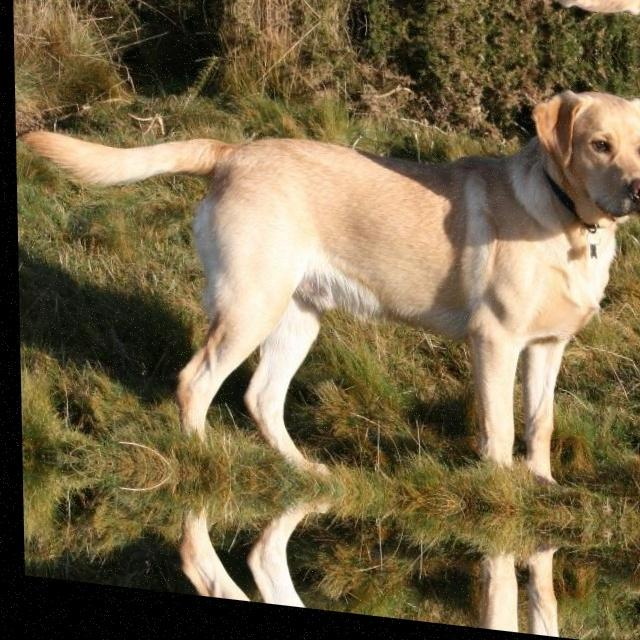dog: (513, 67, 640, 244), (510, 0, 640, 35)
